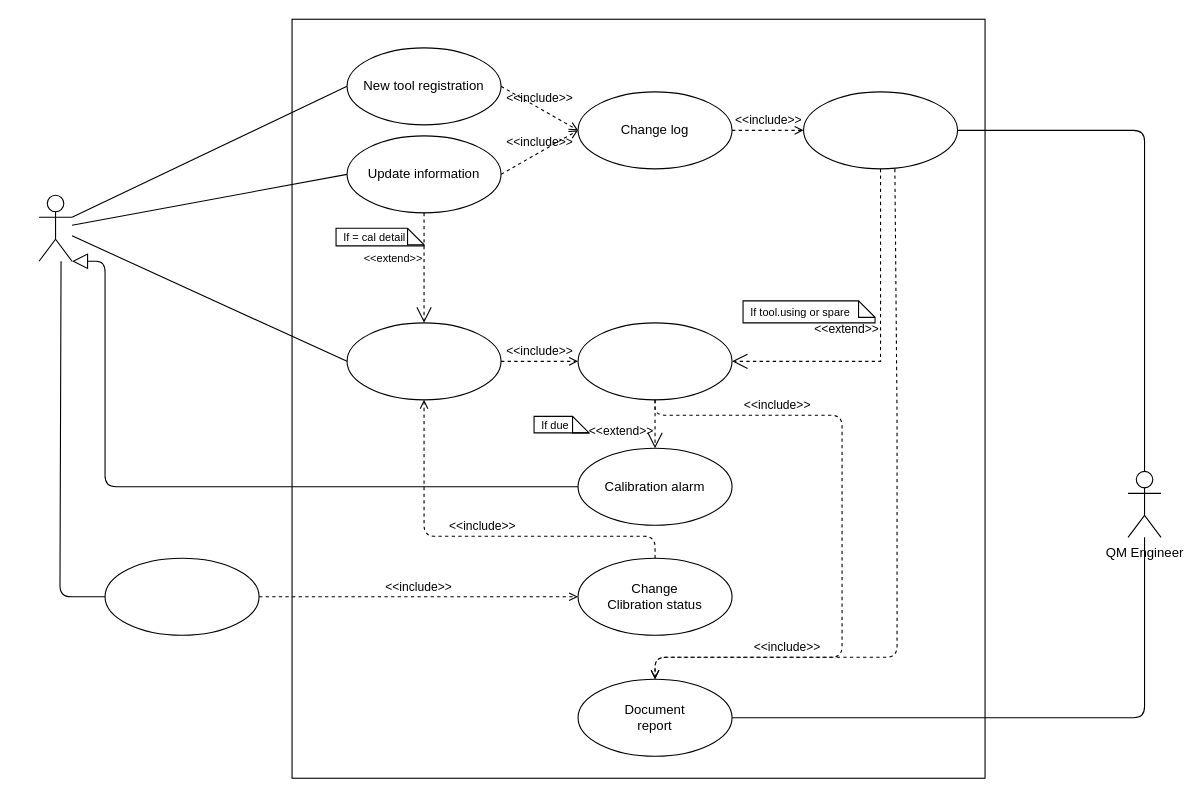
Some shapes in this 1202 by 798 pixel diagram are drawn without their labels. Here are the shapes that lost their labels. From the top down, the box of each, then its label:
(802, 91, 958, 169): Tool list
(38, 194, 72, 261): QM operator
(346, 322, 501, 400): Calibration information
(577, 322, 732, 400): Calibration schedule
(104, 557, 259, 635): Calibration process
